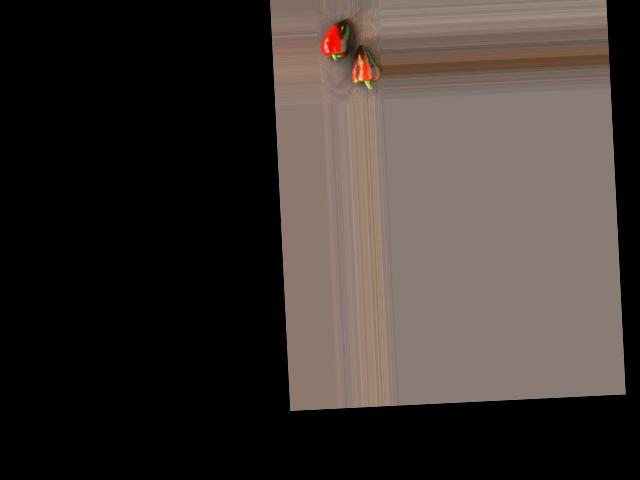bell_pepper: (317, 16, 354, 75)
